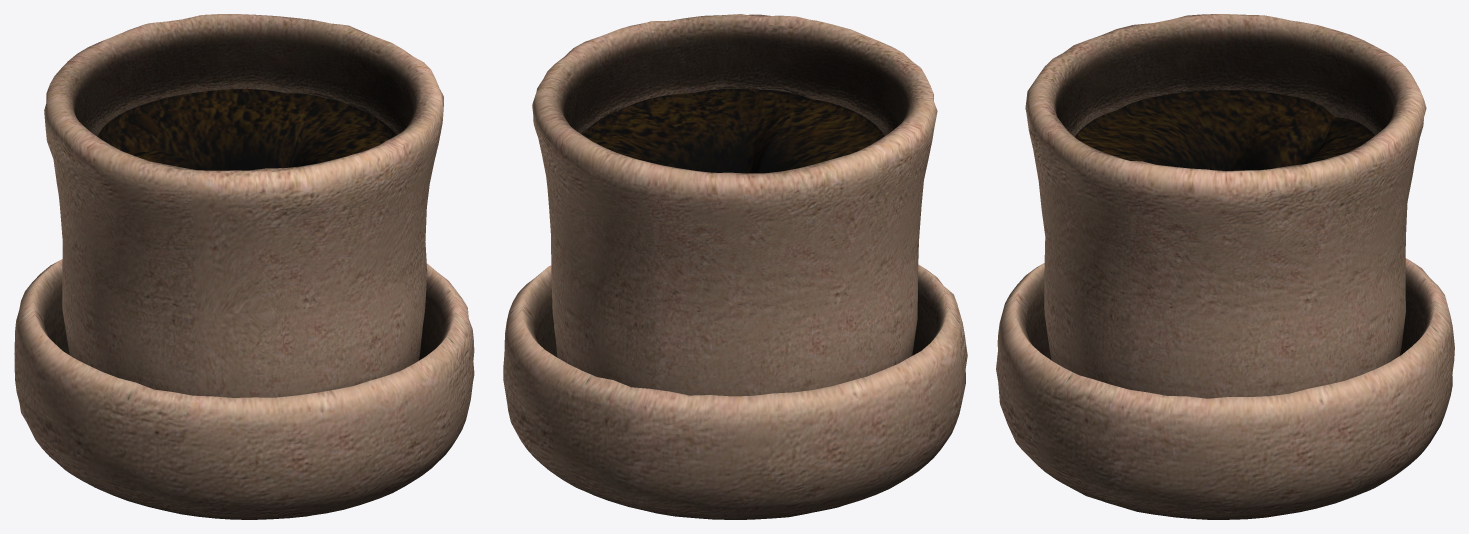
The model's file is Indoor plant_3_BI_blend.fbx.
The picture shows the model from 3 angles, left to right: view 1: azimuth 30°, elevation 25°; view 2: azimuth 150°, elevation 25°; view 3: azimuth 270°, elevation 25°; orthographic projection.
Parts seen in each view (by area): view 1: Low-Poly Plant_; view 2: Low-Poly Plant_; view 3: Low-Poly Plant_.
Part boxes in pixels (x1=…): Low-Poly Plant_: x1=14, y1=14, x2=474, y2=519; Low-Poly Plant_: x1=503, y1=14, x2=967, y2=519; Low-Poly Plant_: x1=996, y1=14, x2=1454, y2=519.
Bounding box in the file's own units: 46.73 × 40.11 × 46.71.
